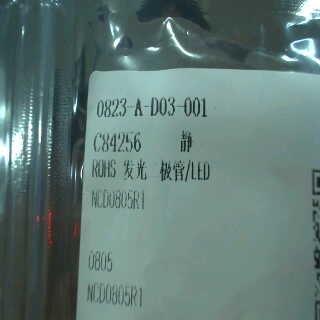LED: (119, 157, 215, 183)
